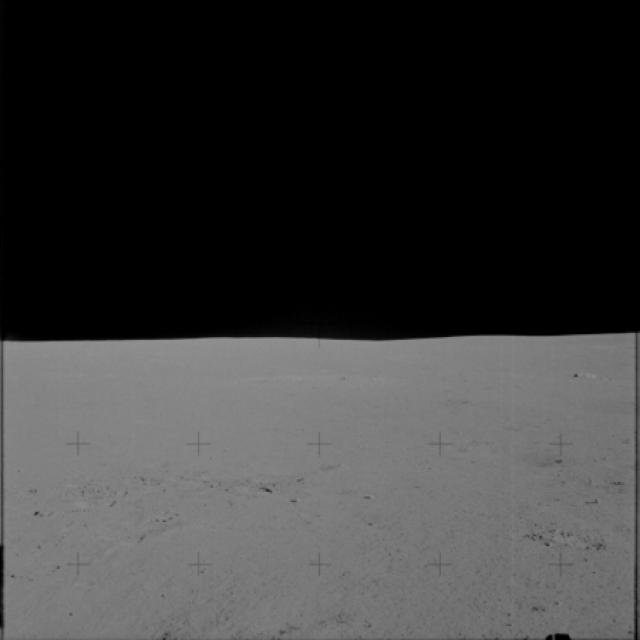crater: (456, 428, 603, 480)
